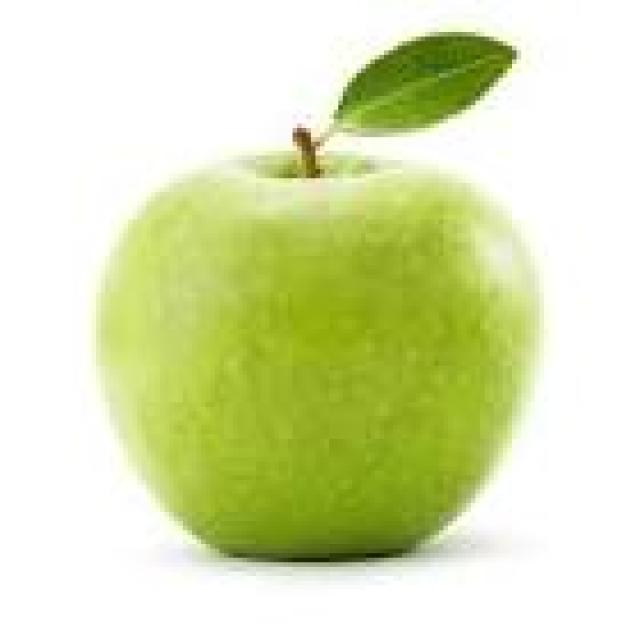apple: (101, 151, 535, 553)
